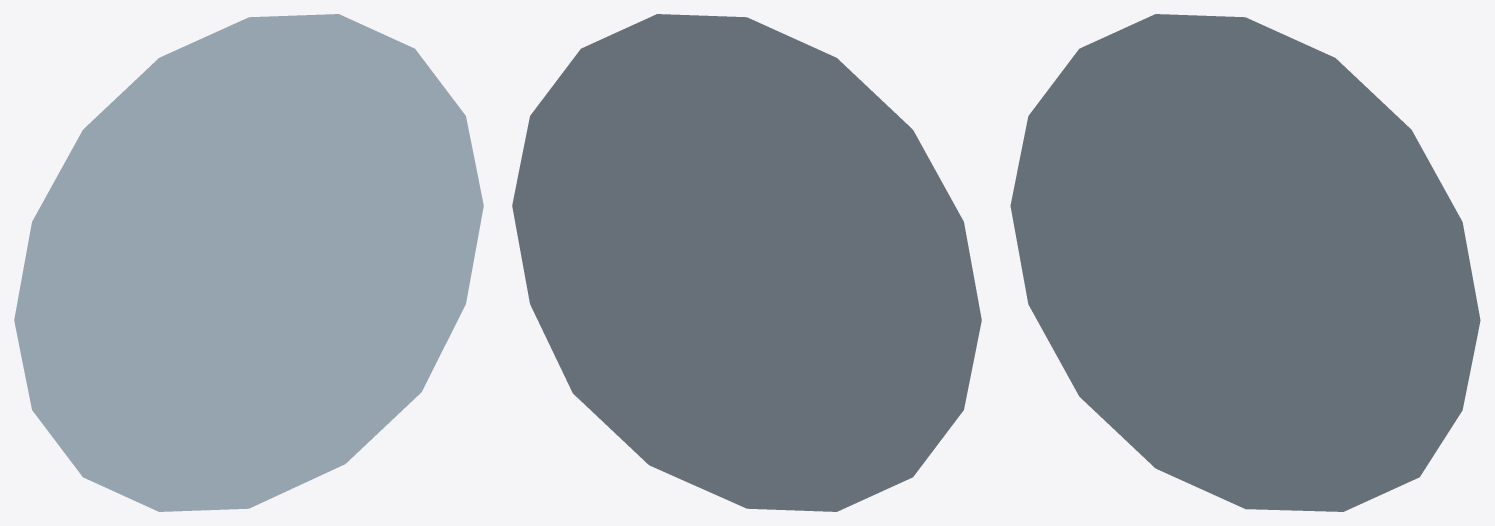
The picture shows the model from 3 angles, left to right: view 1: azimuth 30°, elevation 25°; view 2: azimuth 150°, elevation 25°; view 3: azimuth 330°, elevation 25°; orthographic projection.
Visible parts, largest first — view 1: CircleModel; view 2: CircleModel; view 3: CircleModel.
Boxes of the visible parts, left/top/right/bottom form: CircleModel: left=14, top=14, right=483, bottom=511; CircleModel: left=512, top=14, right=981, bottom=511; CircleModel: left=1010, top=14, right=1480, bottom=511.
Size of the model in its own units: 105 by 105 by 0.2966.
